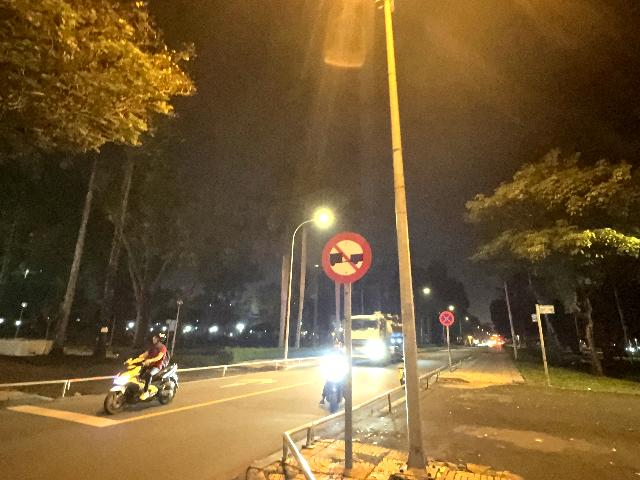cam-xe-somi-romooc: (321, 232, 372, 283)
